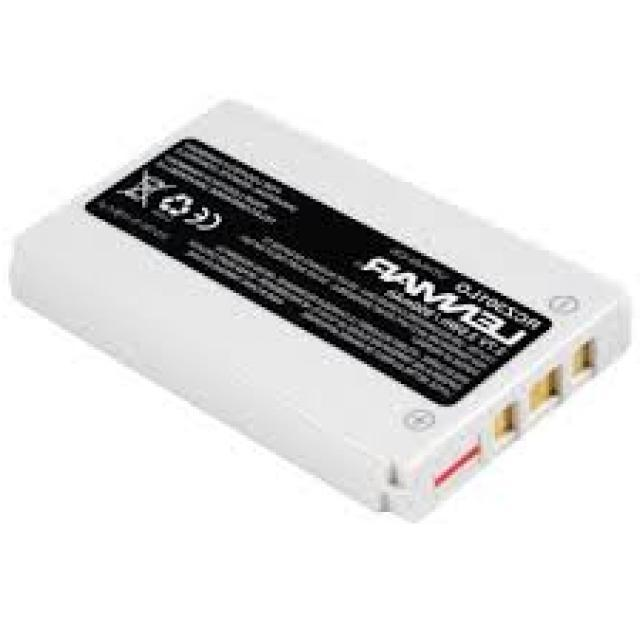battery: (14, 98, 628, 518)
